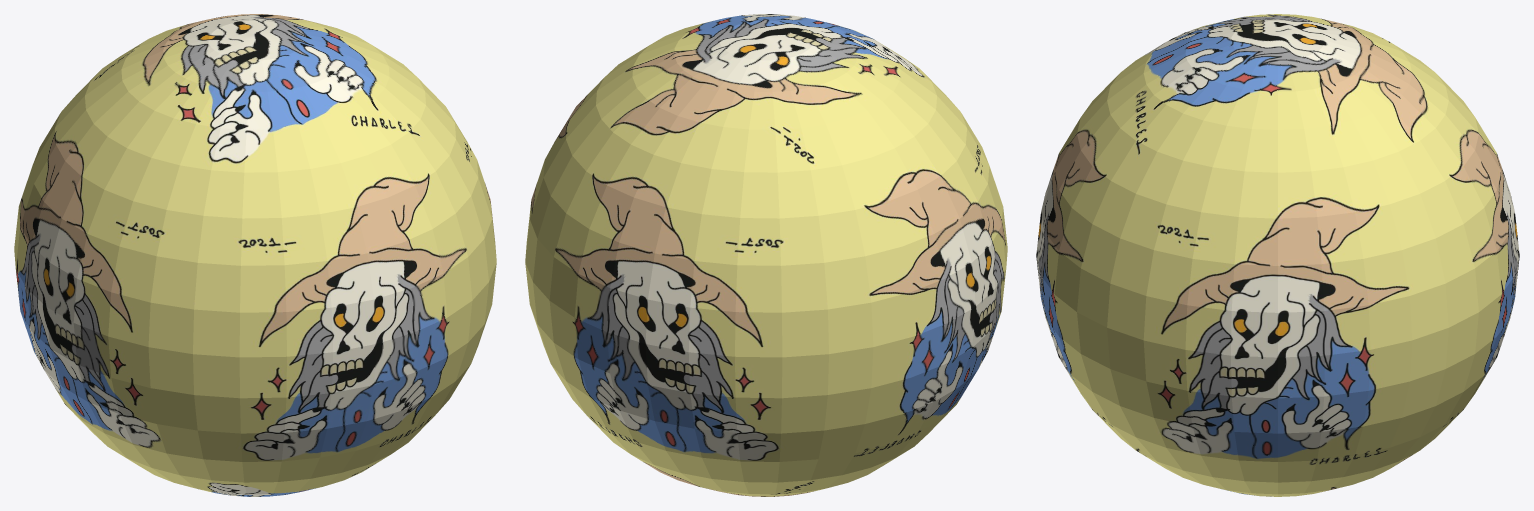
Rendered from NNJGMcS8W.glb.
The picture shows the model from 3 angles, left to right: view 1: azimuth 30°, elevation 25°; view 2: azimuth 150°, elevation 25°; view 3: azimuth 270°, elevation 25°; orthographic projection.
Visible parts, largest first — view 1: Sphere; view 2: Sphere; view 3: Sphere.
Part boxes in pixels (x1,y1,x2,y2): Sphere: [14, 14, 496, 496]; Sphere: [525, 14, 1007, 496]; Sphere: [1036, 14, 1519, 496].
Bounding box in the file's own units: 10 × 10 × 10.
3 materials, 2 textured.
